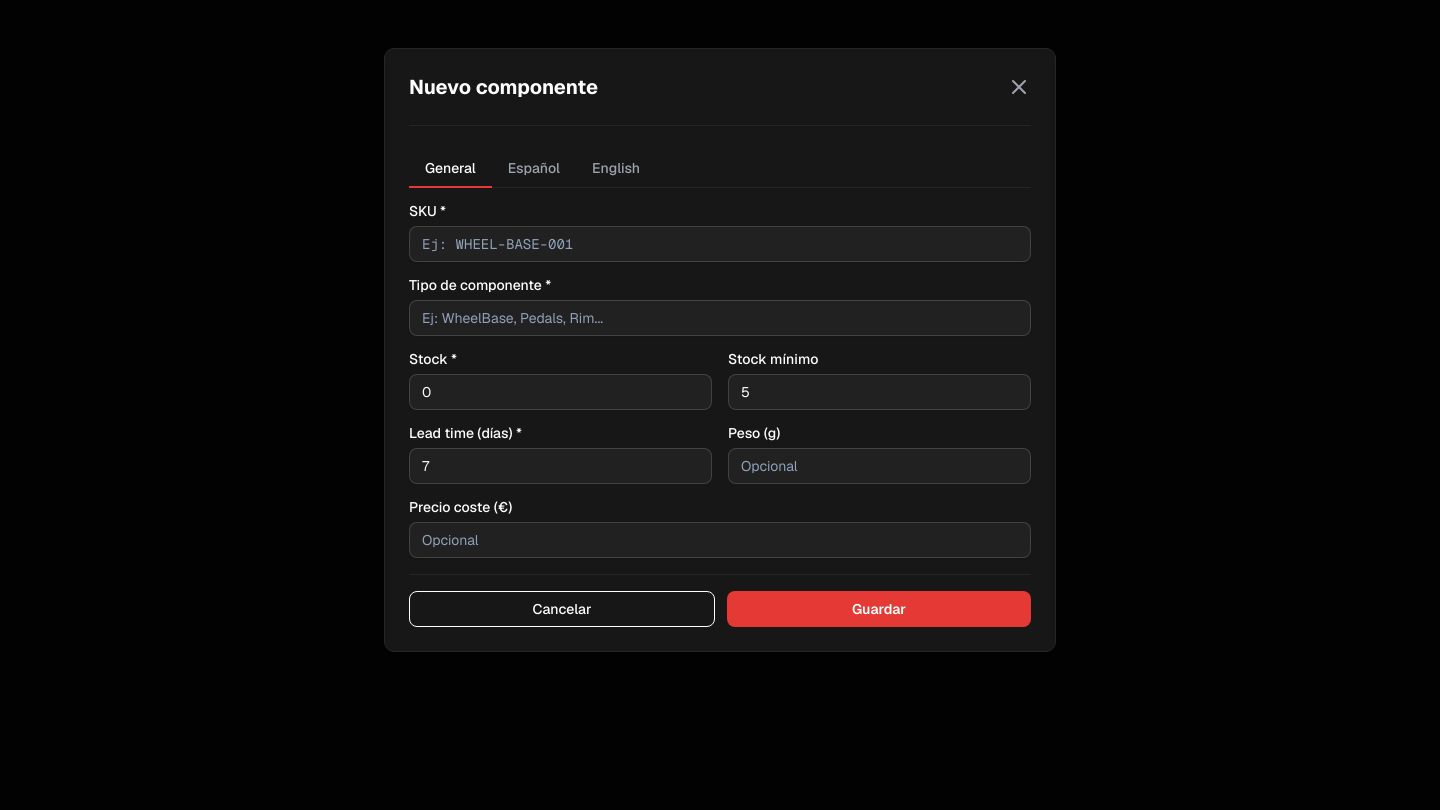
Test: ComponentModal › creación › muestra mensaje de error cuando create falla
Type "X" into the field labelled "SKU *" at [720, 244], box [409, 226, 1031, 262]
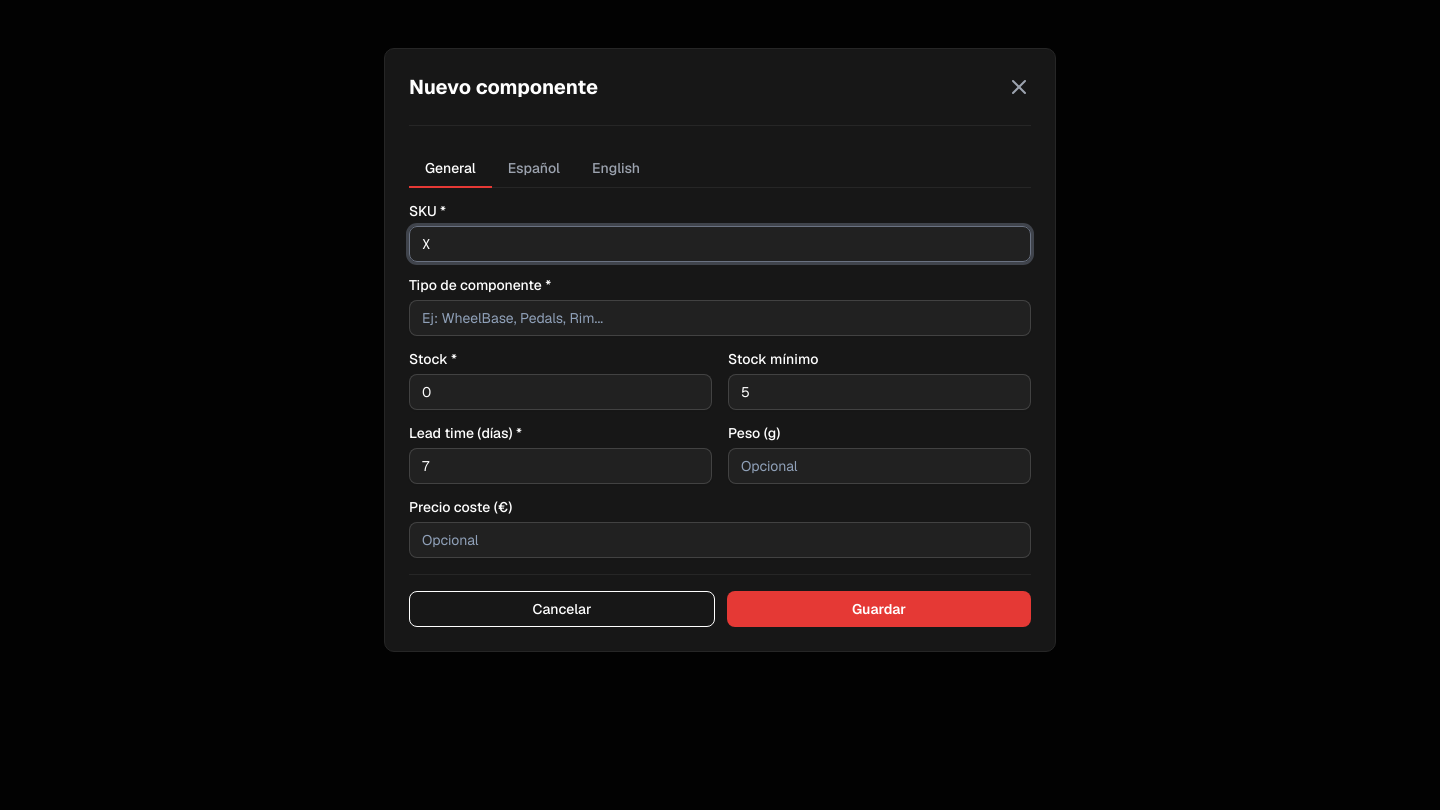
Type "WheelBase" into the field labelled "Tipo de componente *" at [720, 318], box [409, 300, 1031, 336]
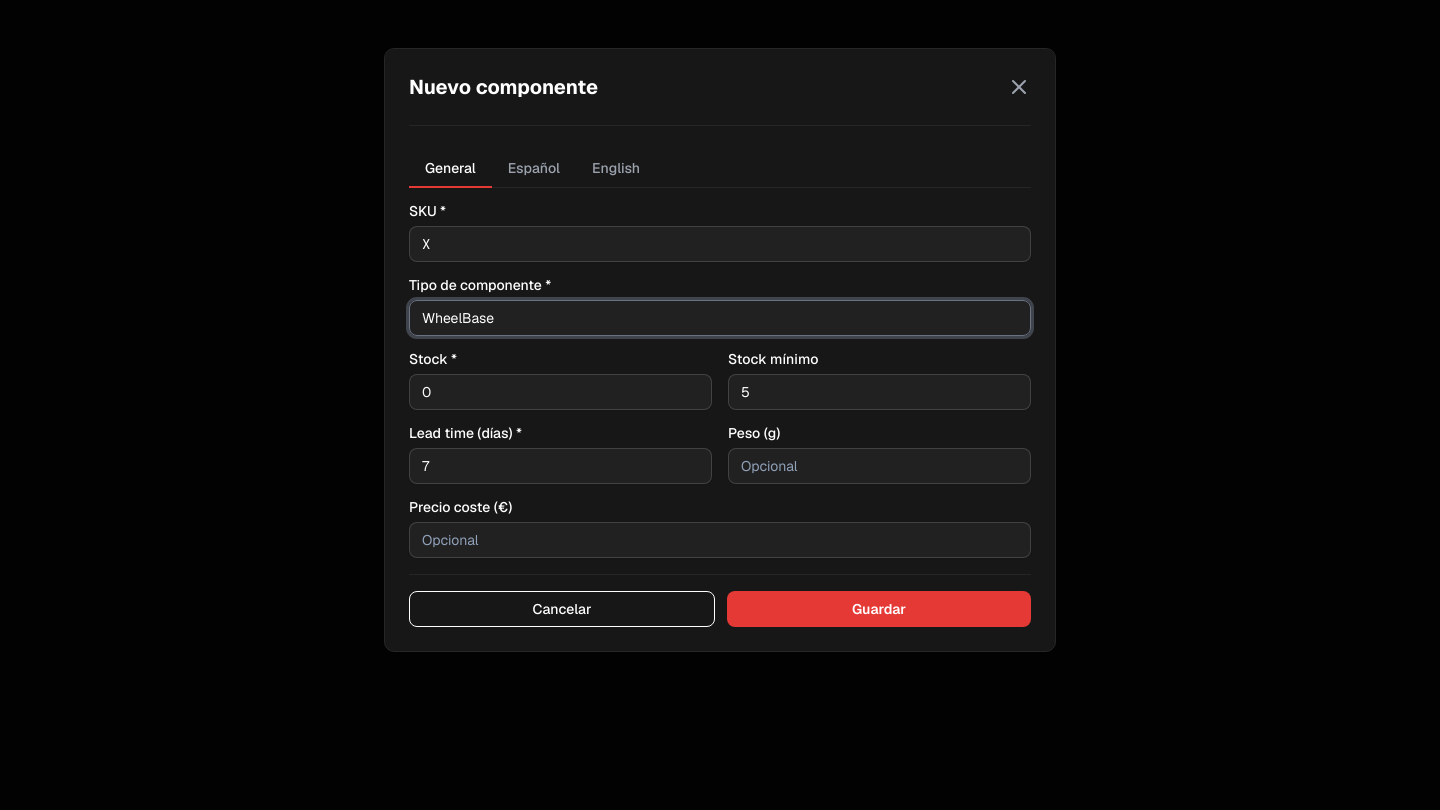
Click the button "Guardar" at [879, 609], box [727, 591, 1031, 627]
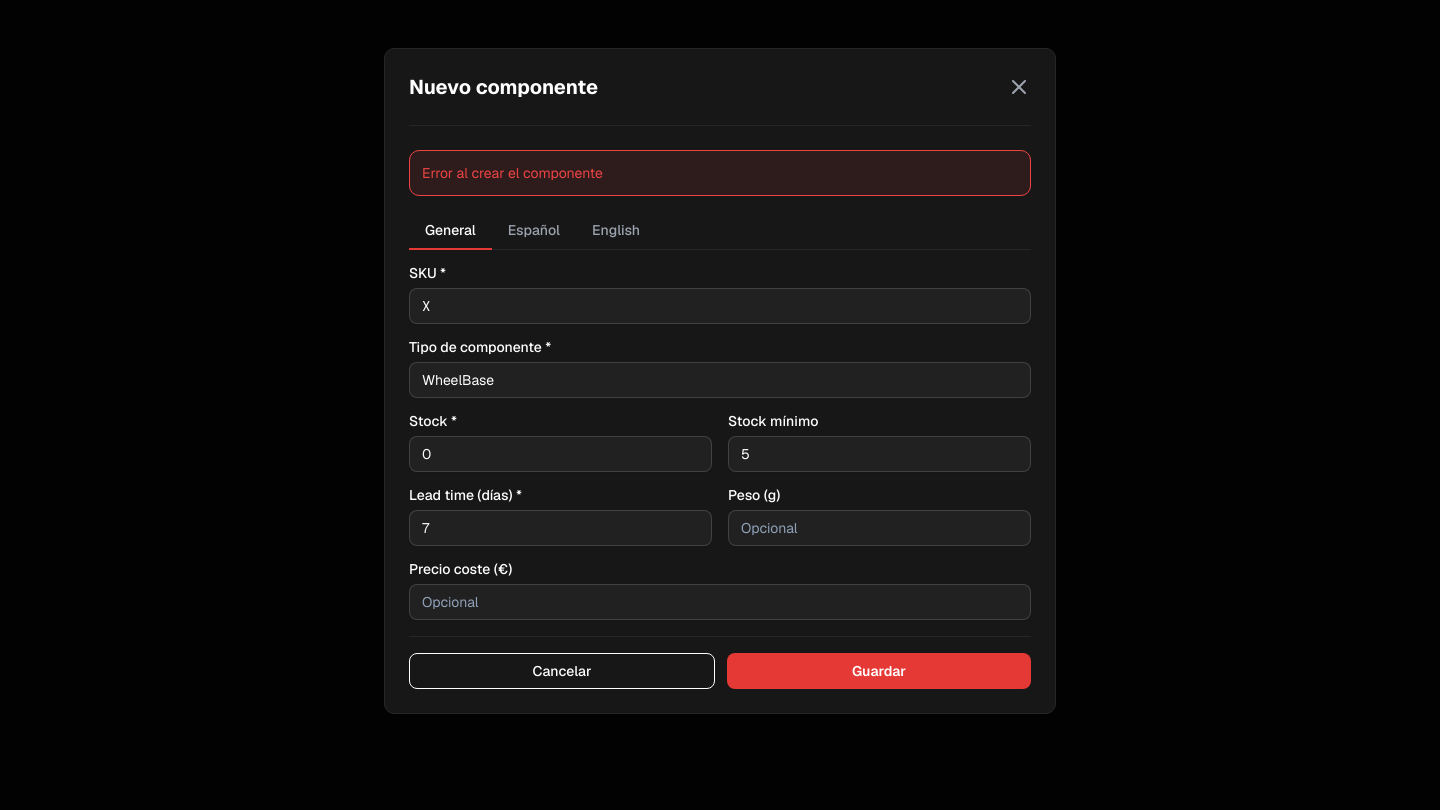
Check: the text "Error al crear el componente" is shown, box [409, 150, 1031, 196]
